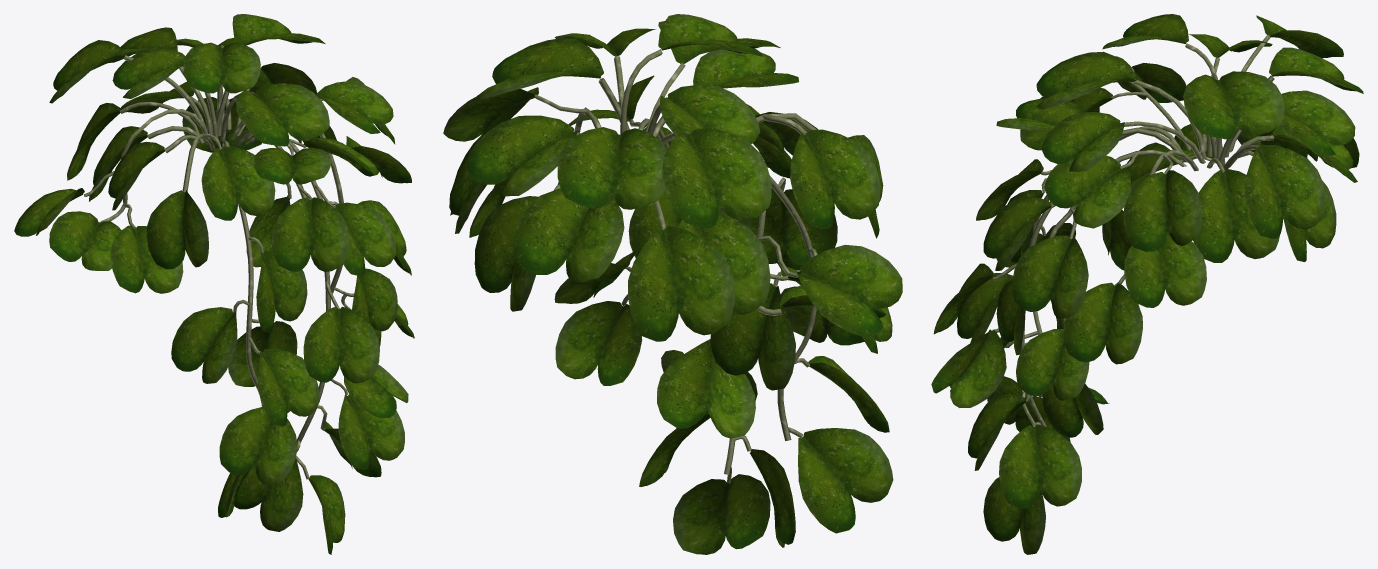
The model's file is Plant_G.fbx.
3 renders of one model, left to right at view 1: azimuth 30°, elevation 25°; view 2: azimuth 150°, elevation 25°; view 3: azimuth 270°, elevation 25°, orthographic. The views are drawn at different scales.
Parts seen in each view (by area): view 1: Plant_GGG1, Plant_GGG2; view 2: Plant_GGG1, Plant_GGG2; view 3: Plant_GGG1, Plant_GGG2.
Boxes of the visible parts, x1,y1,x2,y2 form: Plant_GGG1: [14, 14, 411, 293]; Plant_GGG2: [171, 140, 414, 554]; Plant_GGG1: [443, 14, 902, 341]; Plant_GGG2: [554, 175, 893, 554]; Plant_GGG1: [976, 14, 1363, 318]; Plant_GGG2: [931, 126, 1182, 554].
Bounding box in the file's own units: 0.3477 × 0.4329 × 0.341.
